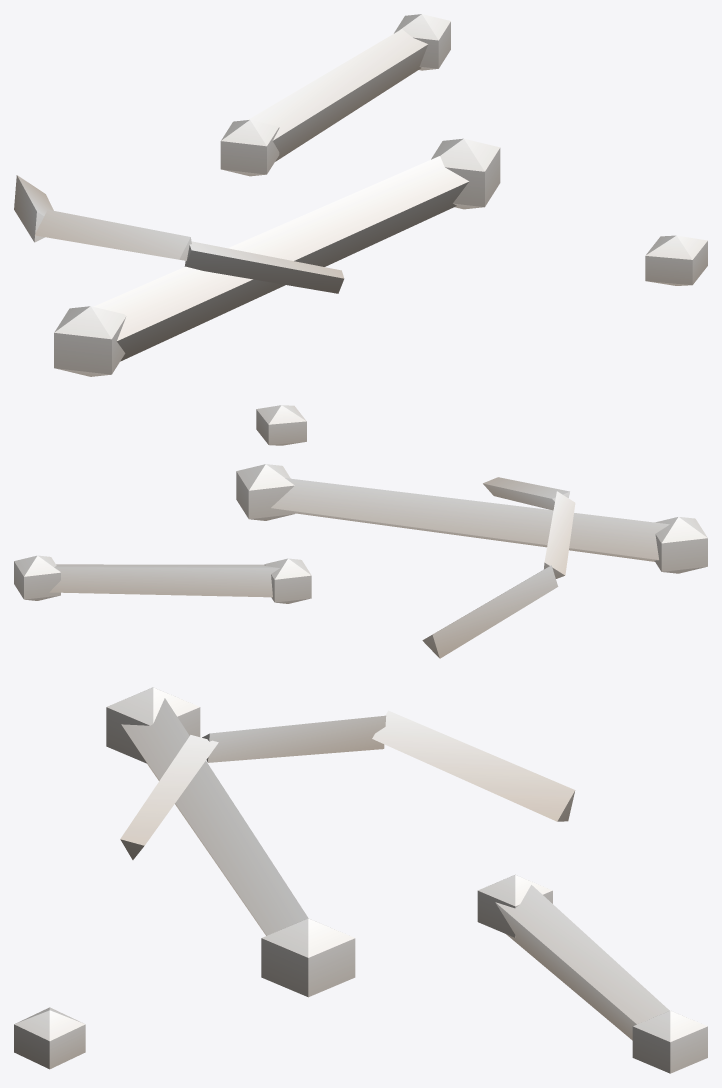
File: bone_scatter.glb
The picture shows the model from 3 angles, top to bottom: view 1: azimuth 30°, elevation 25°; view 2: azimuth 150°, elevation 25°; view 3: azimuth 270°, elevation 25°; orthographic projection. The views are drawn at different scales.
Parts seen in each view (by area): view 1: bone_scatter; view 2: bone_scatter; view 3: bone_scatter.
Part boxes in pixels (box(x1,y1,x2,y2)): bone_scatter: box(14, 14, 707, 376); bone_scatter: box(14, 405, 707, 658); bone_scatter: box(14, 687, 707, 1073).
Size of the model in its own units: 0.7818 by 0.1156 by 0.671.
1 material, 1 textured.
